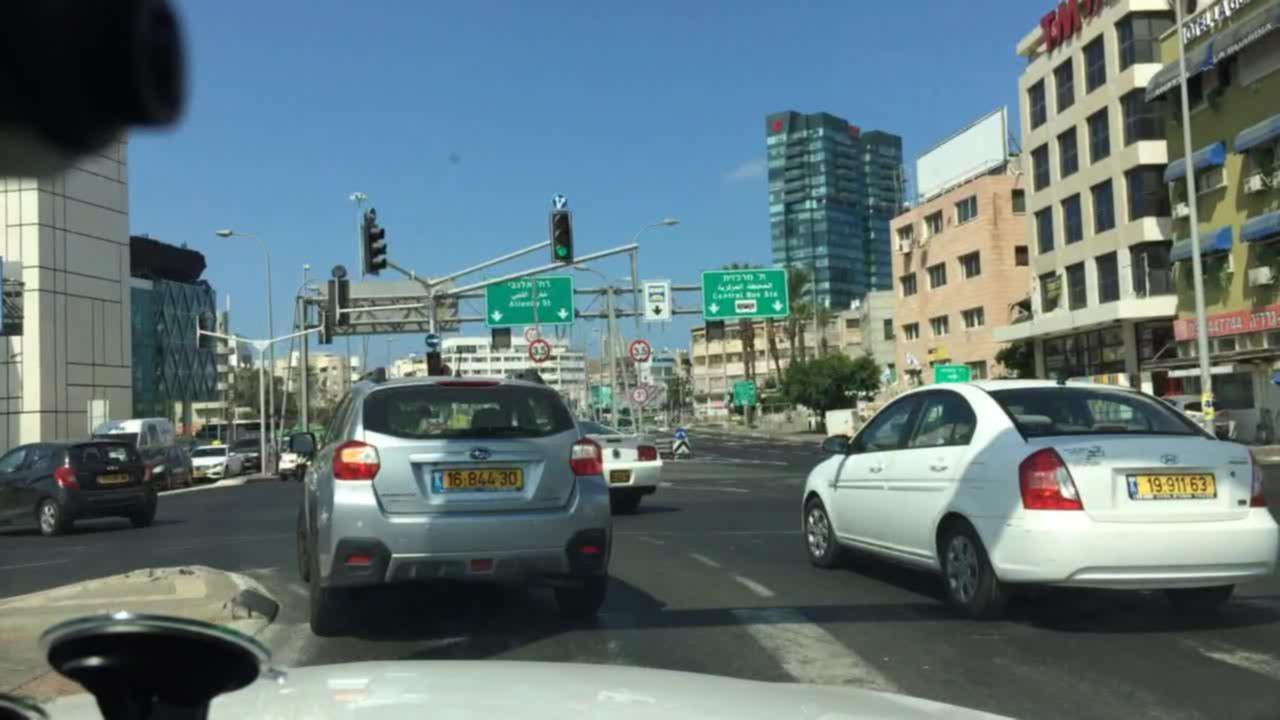Hyundai: (1154, 449, 1184, 468)
subaru: (462, 441, 496, 464)
